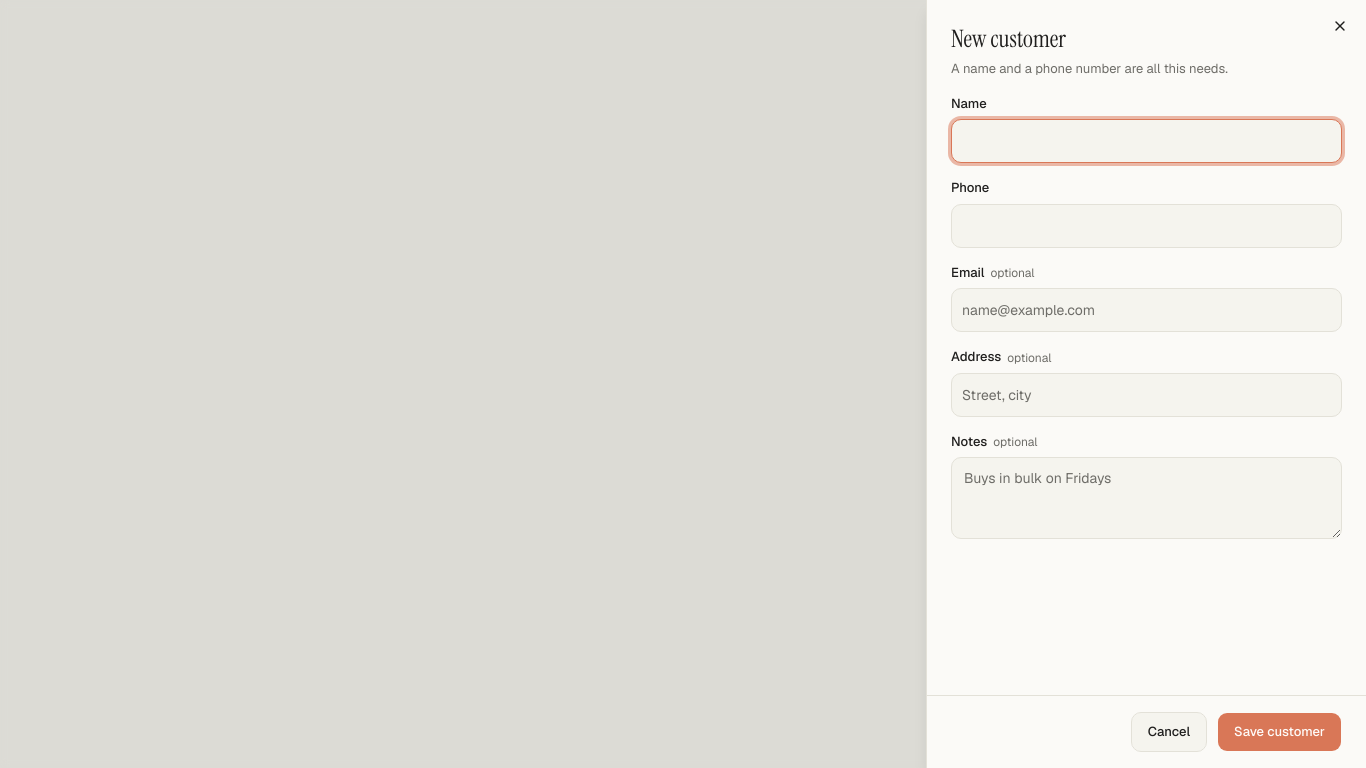
CustomerFormSheet — creating › will not submit without a phone number
Type "Faisal Traders" into the field labelled "Name" at (1146, 141), box [951, 119, 1342, 163]
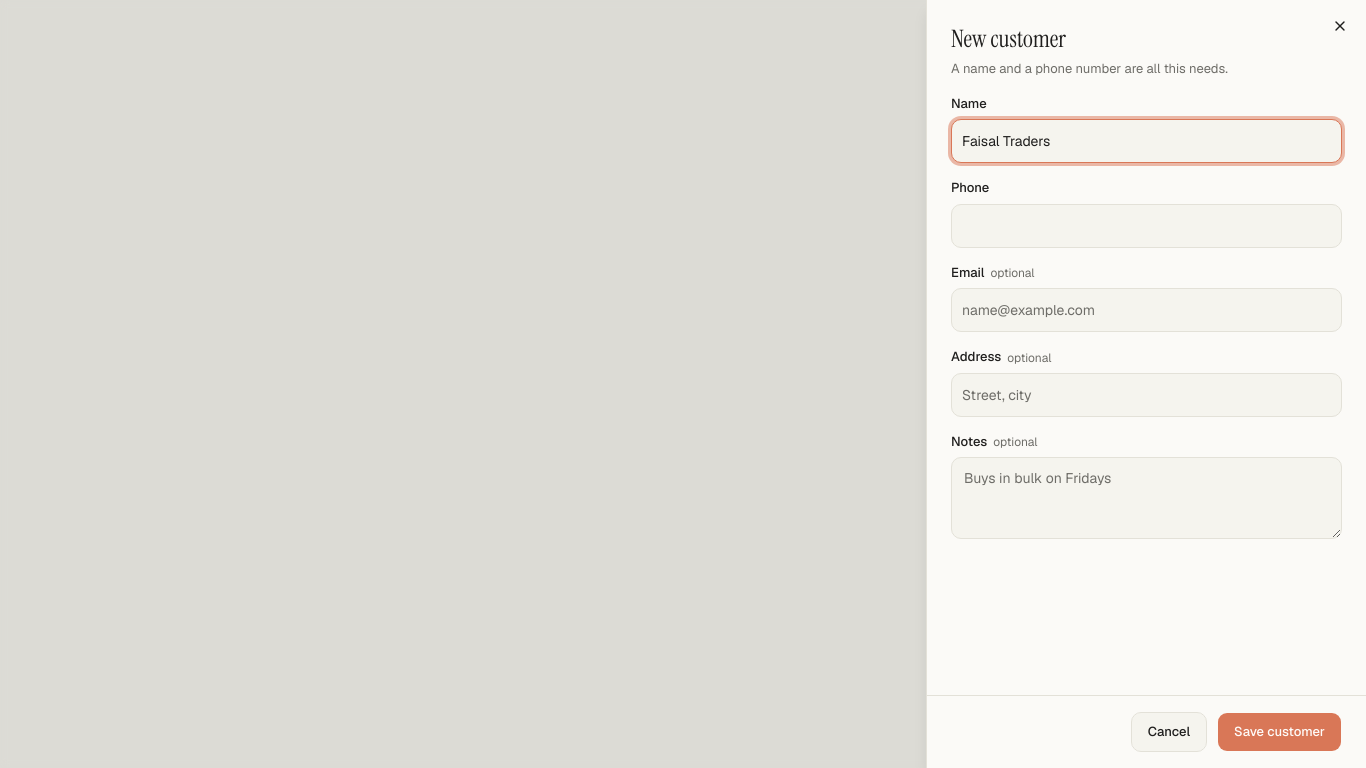
Click the button "Save customer" at (1280, 732), box [1217, 712, 1342, 752]
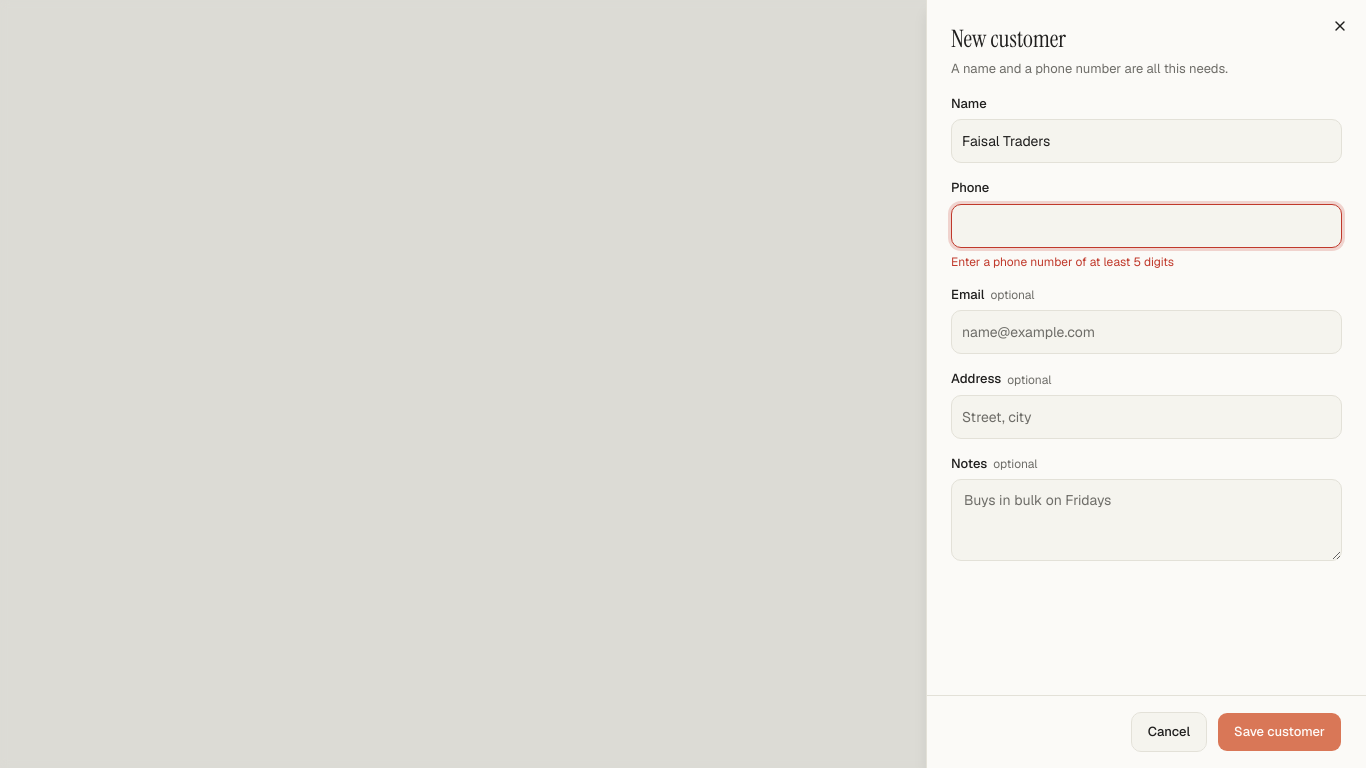
Expected: the text "Enter a phone number of at least 5 digits" is shown, [951, 254, 1174, 270]
